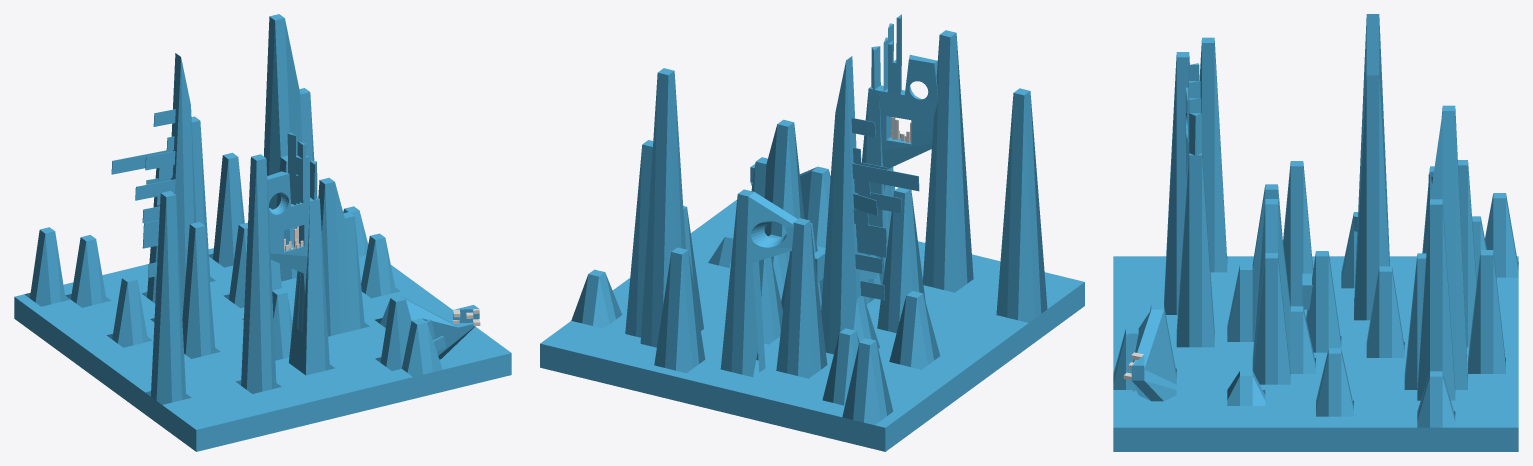
File: tokyoto.fbx
The picture shows the model from 3 angles, left to right: view 1: azimuth 30°, elevation 25°; view 2: azimuth 150°, elevation 25°; view 3: azimuth 270°, elevation 25°; orthographic projection. The views are drawn at different scales.
Parts seen in each view (by area): view 1: Cube; view 2: Cube; view 3: Cube.
Boxes of the visible parts, box(x1,y1,x2,y2) form: Cube: box(14, 14, 511, 451); Cube: box(540, 14, 1084, 451); Cube: box(1113, 14, 1518, 451).
Bounding box in the file's own units: 3000 × 2615 × 3000.
